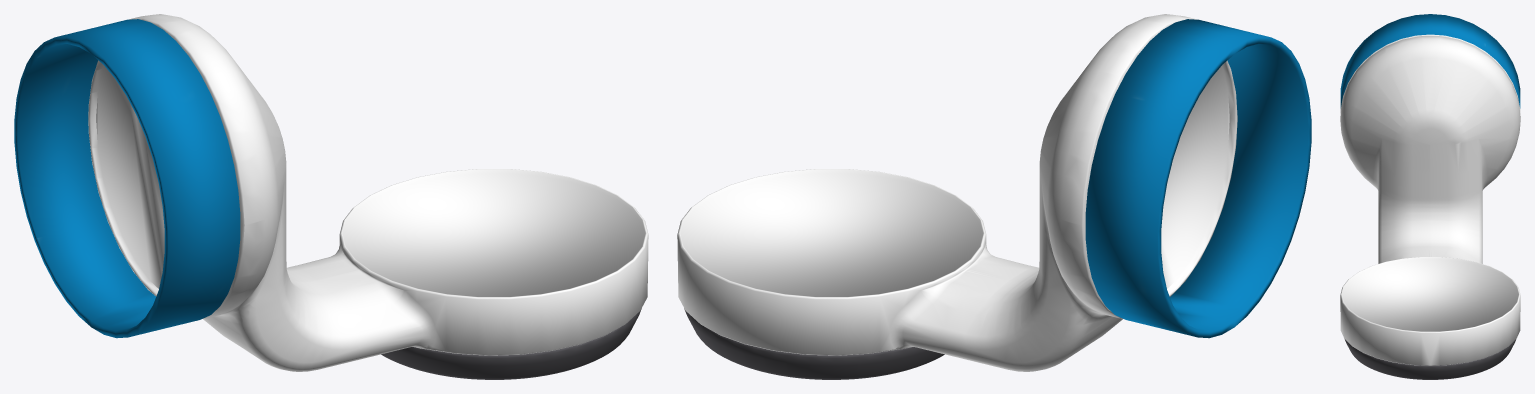
The model's file is forearm_roll_link.obj.
The picture shows the model from 3 angles, left to right: view 1: azimuth 30°, elevation 25°; view 2: azimuth 150°, elevation 25°; view 3: azimuth 270°, elevation 25°; orthographic projection. The views are drawn at different scales.
Size of the model in its own units: 0.2085 by 0.139 by 0.104.
Materials: 1 (1 with a texture image).
